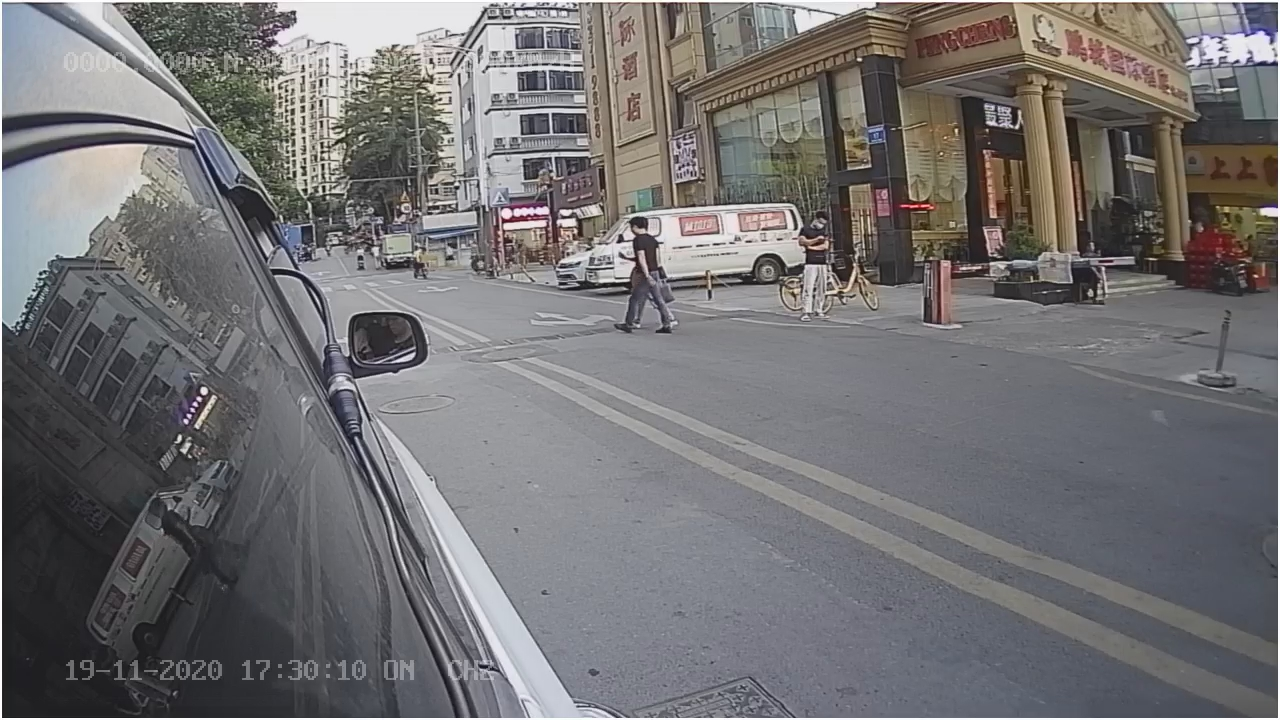person: (618, 217, 678, 338)
